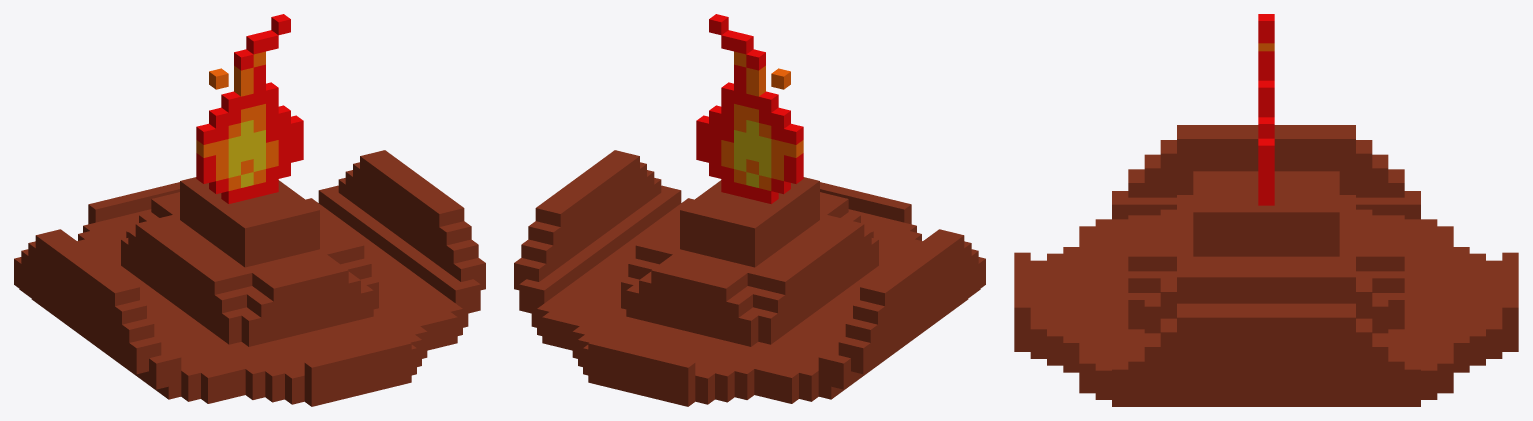
File: Fire.obj
3 renders of one model, left to right at view 1: azimuth 30°, elevation 25°; view 2: azimuth 150°, elevation 25°; view 3: azimuth 270°, elevation 25°, orthographic. The views are drawn at different scales.
Bounding box in the file's own units: 2.8 × 2.2 × 3.1.
1 material, 1 textured.
